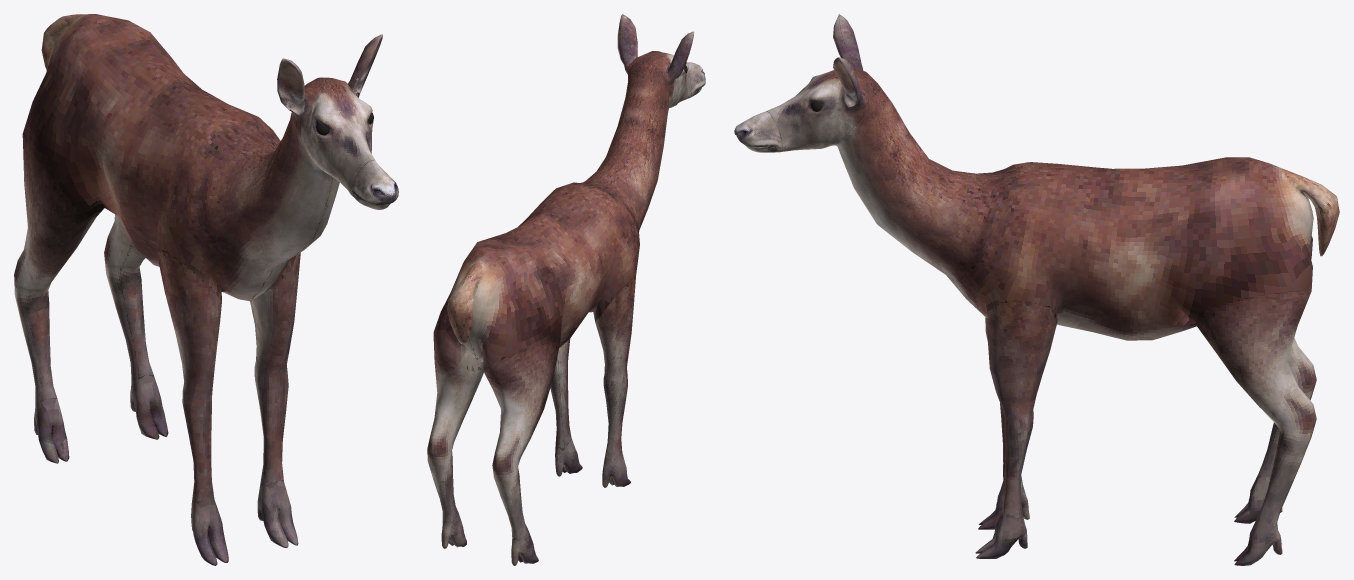
The model's file is woodland-doe-quiet.glb.
The picture shows the model from 3 angles, left to right: view 1: azimuth 30°, elevation 25°; view 2: azimuth 150°, elevation 25°; view 3: azimuth 270°, elevation 25°; orthographic projection. The views are drawn at different scales.
Visible parts, largest first — view 1: woodland-doe-quiet runtime mesh; view 2: woodland-doe-quiet runtime mesh; view 3: woodland-doe-quiet runtime mesh.
Part boxes in pixels (x1,y1,x2,y2): woodland-doe-quiet runtime mesh: (14, 14, 398, 565); woodland-doe-quiet runtime mesh: (427, 14, 705, 565); woodland-doe-quiet runtime mesh: (734, 14, 1339, 565).
Size of the model in its own units: 0.383 by 1.45 by 1.57.
Materials: 3 (2 with a texture image).
